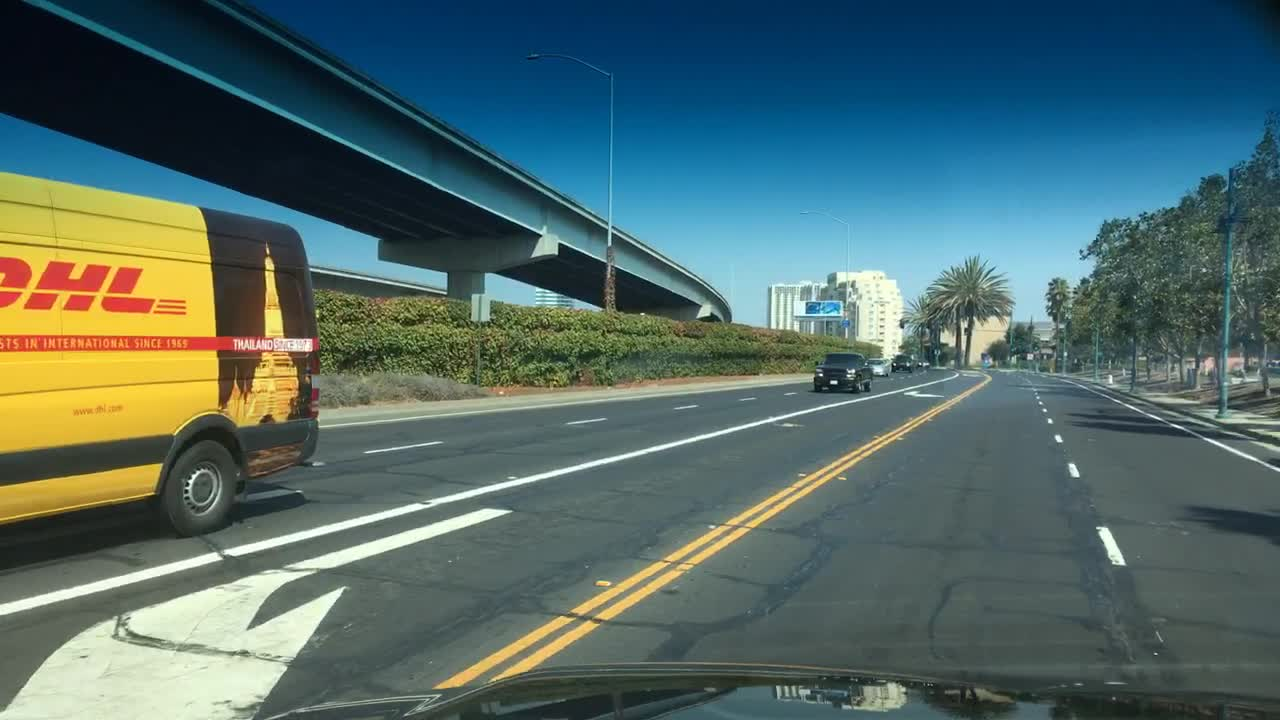car: (0, 169, 322, 539), (810, 353, 872, 395), (866, 357, 893, 378), (891, 354, 911, 372), (917, 358, 932, 370)
